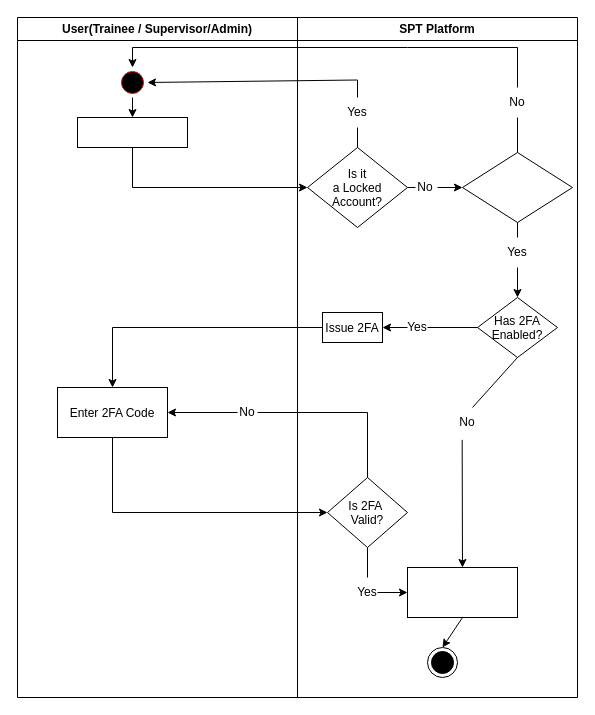
This 595x715 diagram has some shape labels left out. The centre of each missing label's shape, as x and y in pixels:
"Enter Login Info" belongs at [132,132].
"Is Credentials Valid?" belongs at [517,187].
"Load role appropriate dashboard" belongs at [462,592].
